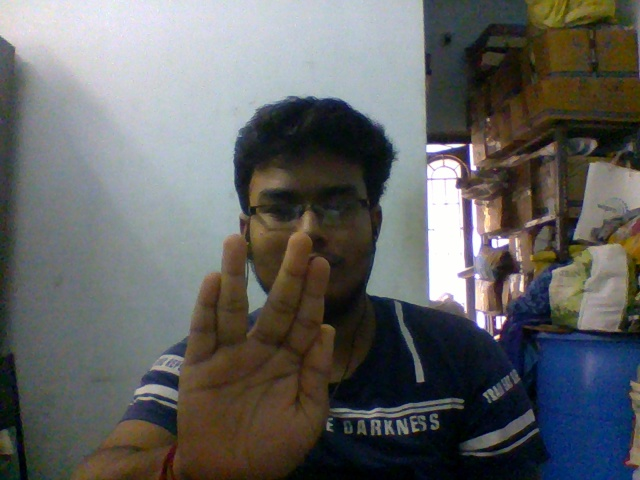LiveLong: (179, 233, 336, 477)
